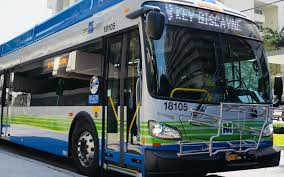bus: (1, 1, 283, 175)
